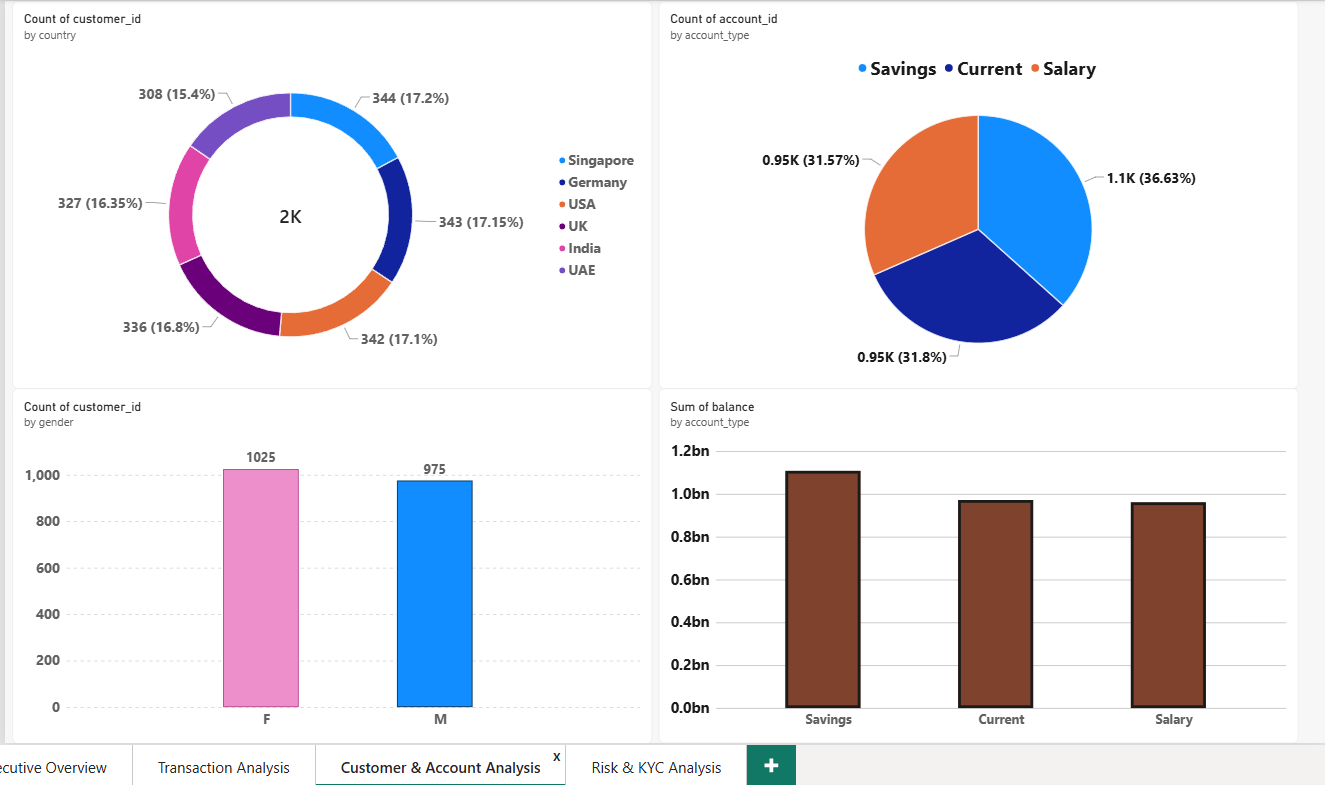

What the dashboard file says about the page in this screenshot:
{"tool":"powerbi","page":{"name":"Customer & Account Analysis","canvas":[1920,1080],"ordinal":2},"visuals":[{"type":"donutChart","fields":{"Category":["public customers.country"],"Y":["CountNonNull(public customers.customer_id)"]},"box":[10.3,0,930.4,564],"z":0},{"type":"clusteredColumnChart","fields":{"Category":["public customers.gender"],"Y":["CountNonNull(public customers.customer_id)"]},"box":[10.3,564,930.4,516.6],"z":1000},{"type":"pieChart","fields":{"Category":["public accounts.account_type"],"Y":["CountNonNull(public accounts.account_id)"]},"box":[950,0,930,564],"z":2000},{"type":"clusteredColumnChart","fields":{"Category":["public accounts.account_type"],"Y":["Sum(public accounts.balance)"]},"box":[950,564,930,516],"z":3000}]}

Visuals, with their boxes on the page's 1920x1080 design canvas (x1, y1, x2, y2). These are canvas units, not pixel positions in the 1325x785 screenshot, which may show the page scaled, cropped or inside an application window:
donutChart - public customers.country x CountNonNull(public customers.customer_id): box(10, 0, 941, 564)
clusteredColumnChart - public customers.gender x CountNonNull(public customers.customer_id): box(10, 564, 941, 1081)
pieChart - public accounts.account_type x CountNonNull(public accounts.account_id): box(950, 0, 1880, 564)
clusteredColumnChart - public accounts.account_type x Sum(public accounts.balance): box(950, 564, 1880, 1080)
